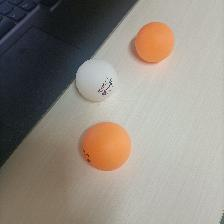WhiteBall: (73, 58, 117, 102)
YellowBall: (79, 121, 131, 171), (133, 22, 173, 63)
